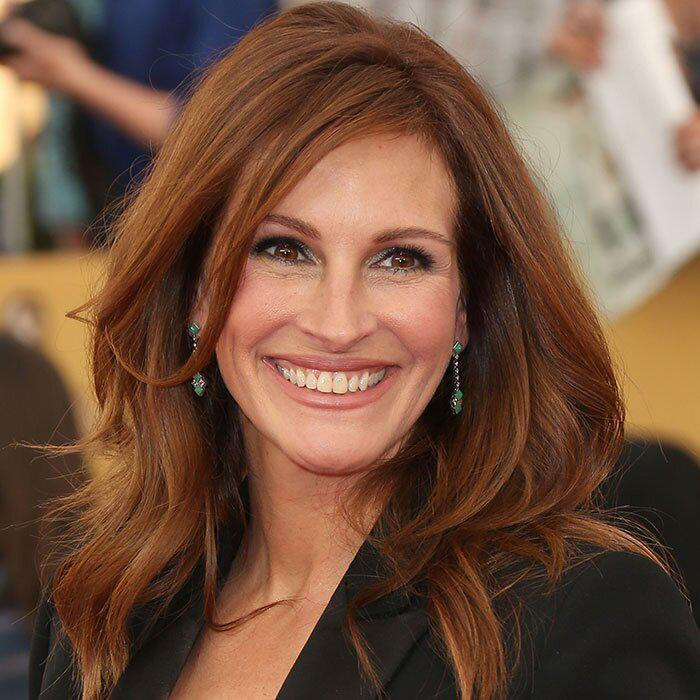Sober: (216, 156, 453, 458)
